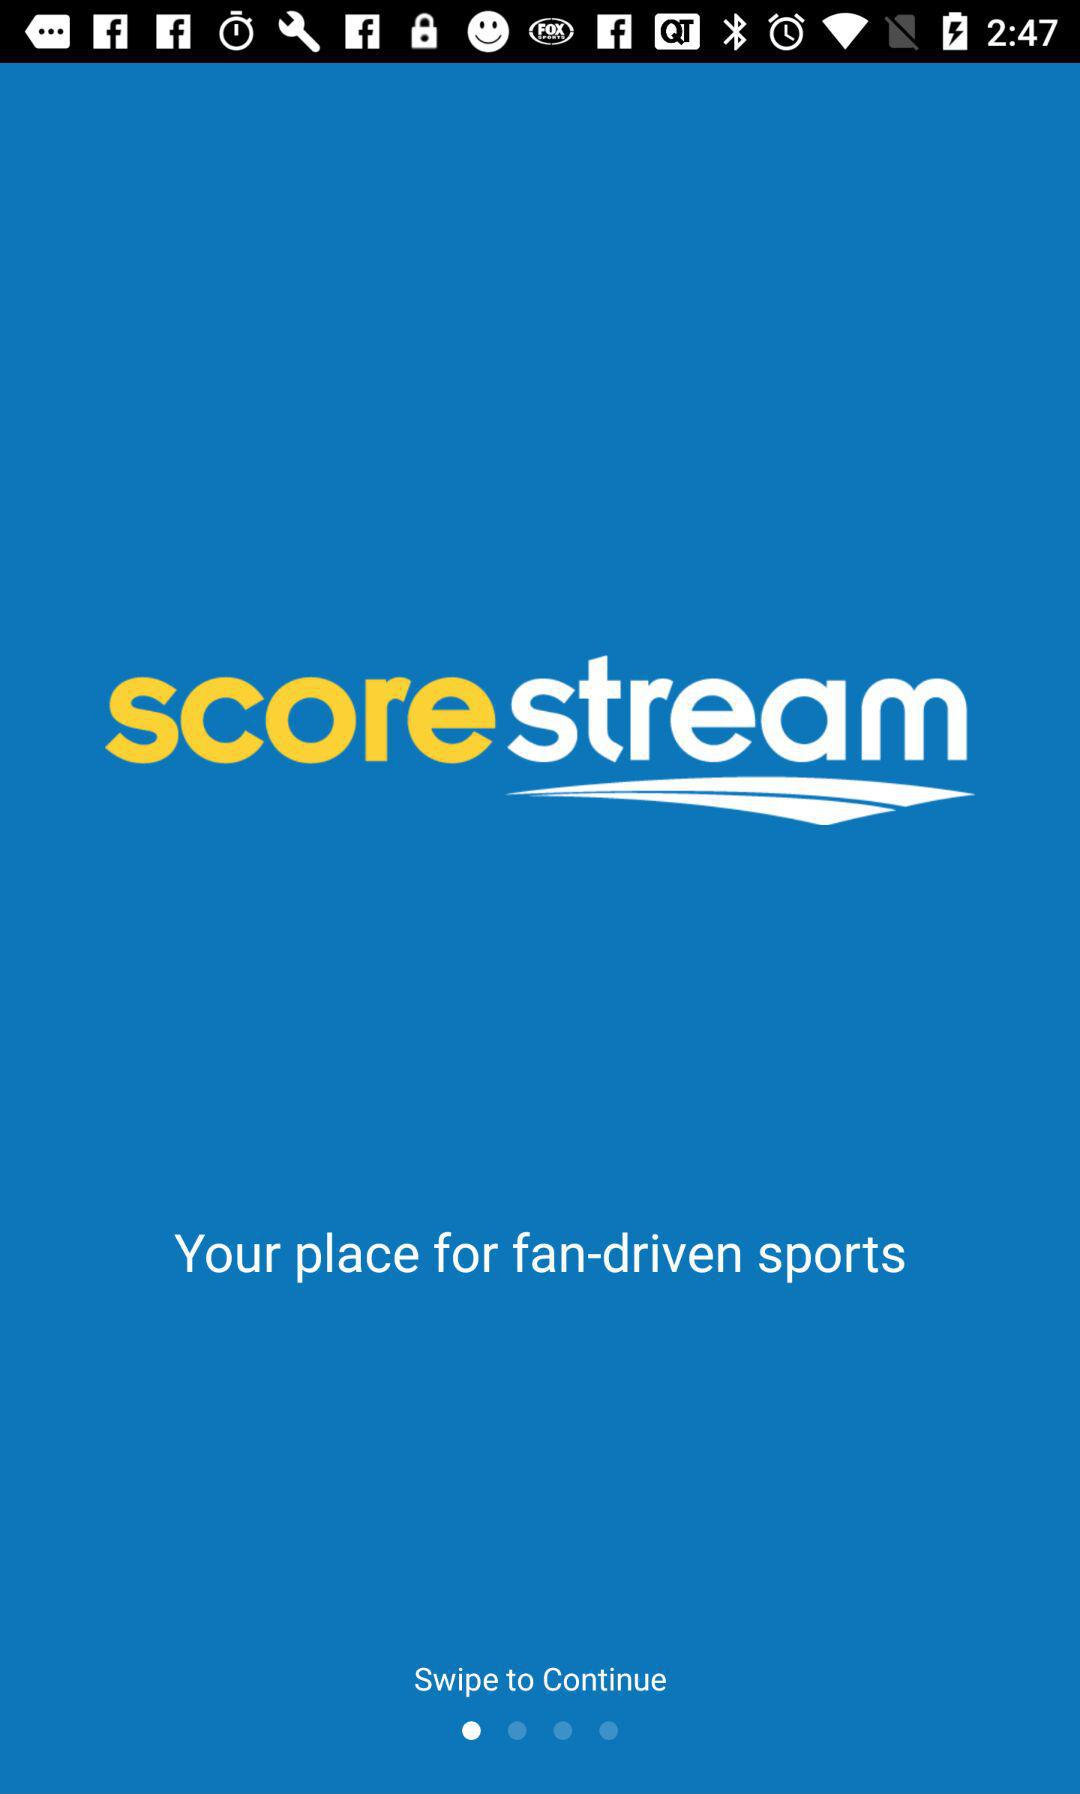Image: (104, 654, 978, 829)
PageIndicator: (460, 1718, 621, 1743)
Text: (174, 1230, 907, 1287), (414, 1666, 667, 1698)
UpperTaskBar: (1, 1, 1080, 64)
